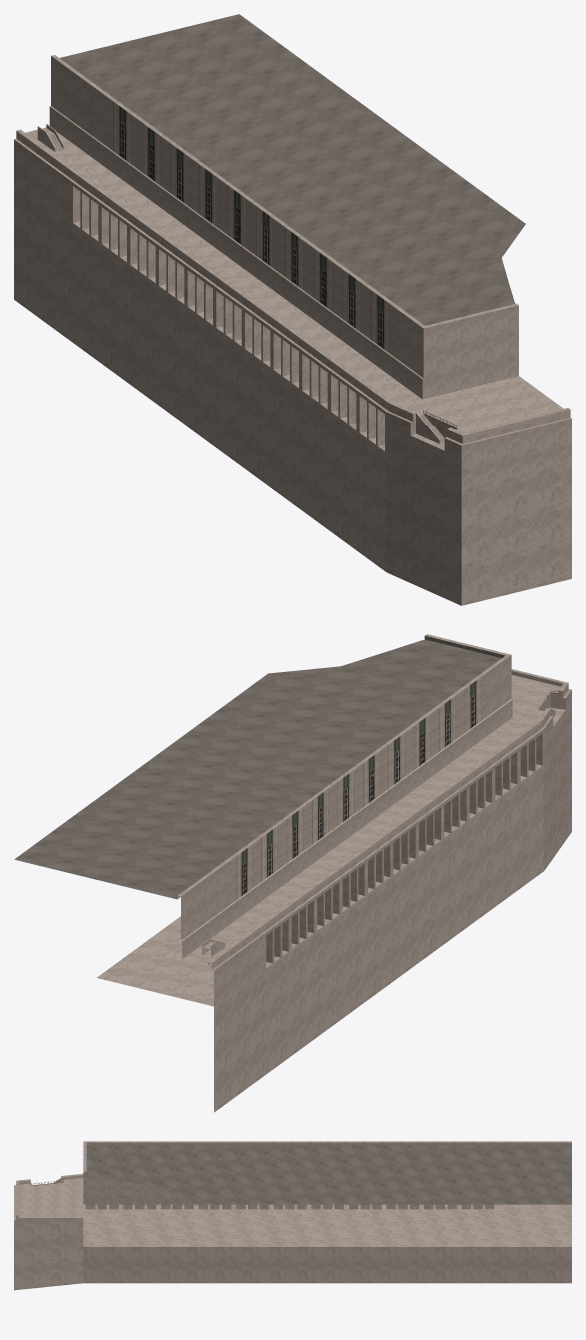
File: dambit3.obj
3 views of the same model, one above another, from view 1: azimuth 30°, elevation 25°; view 2: azimuth 150°, elevation 25°; view 3: azimuth 270°, elevation 25° (orthographic). The views are drawn at different scales.
Parts seen in each view (by area): view 1: dambit3; view 2: dambit3; view 3: dambit3.
Part boxes in pixels (<box>): dambit3: <box>14,14,571,605</box>; dambit3: <box>14,634,571,1112</box>; dambit3: <box>14,1141,571,1290</box>.
Size of the model in its own units: 56.62 by 56.36 by 185.
Materials: 5 (5 with a texture image).
